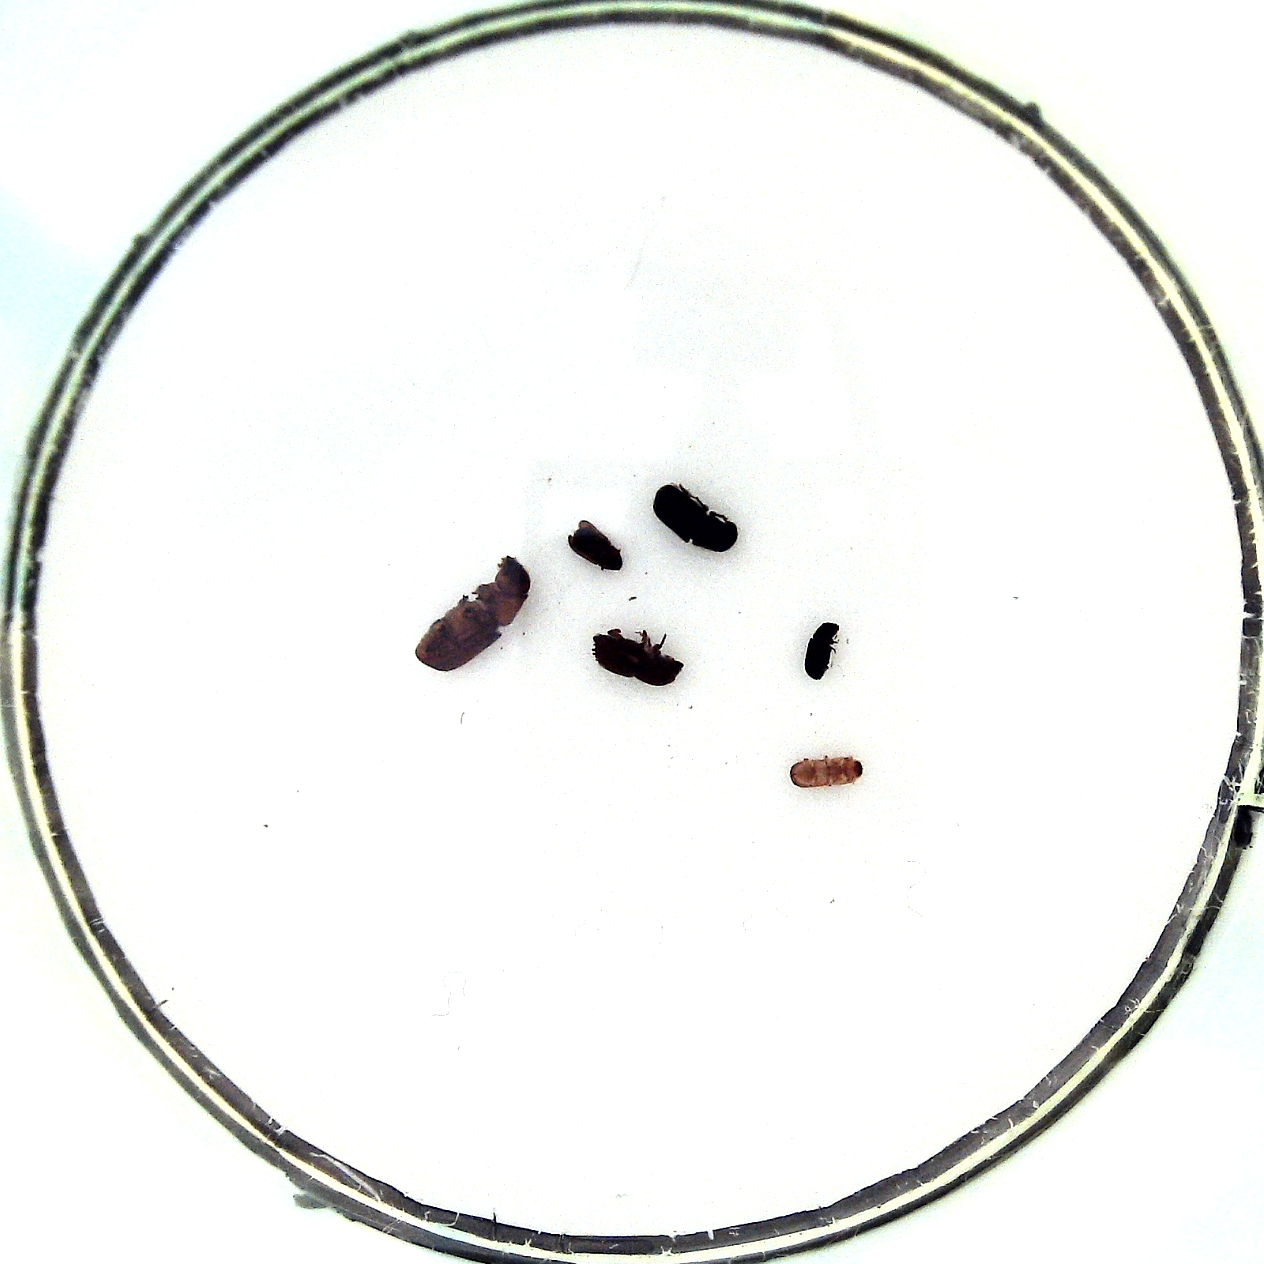Leconte: (416, 556, 531, 671)
acuminatus: (804, 623, 840, 679)
armandi: (654, 484, 738, 552)
coleoptera: (568, 521, 623, 572), (789, 758, 864, 789)
linnaeus: (591, 634, 684, 688)
